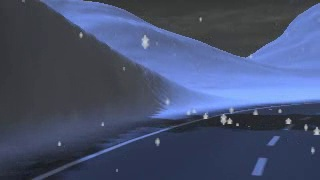Lane: (31, 102, 319, 179)
